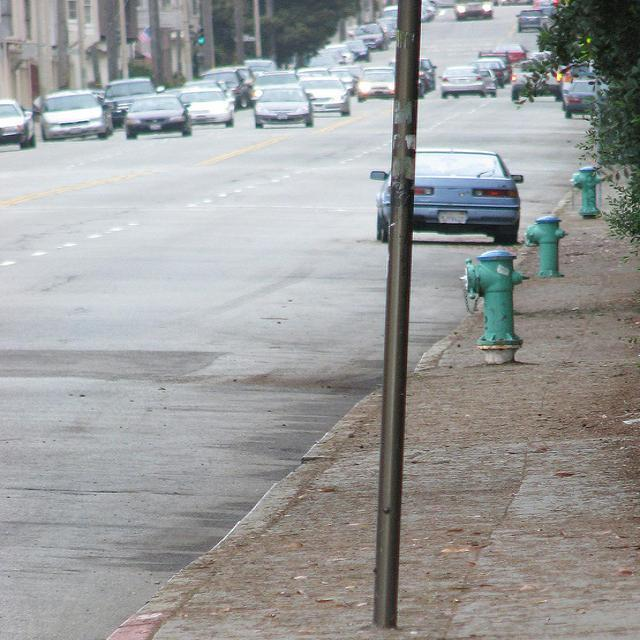fire_hydrant: (466, 247, 532, 364), (524, 211, 568, 279), (573, 165, 602, 215)
